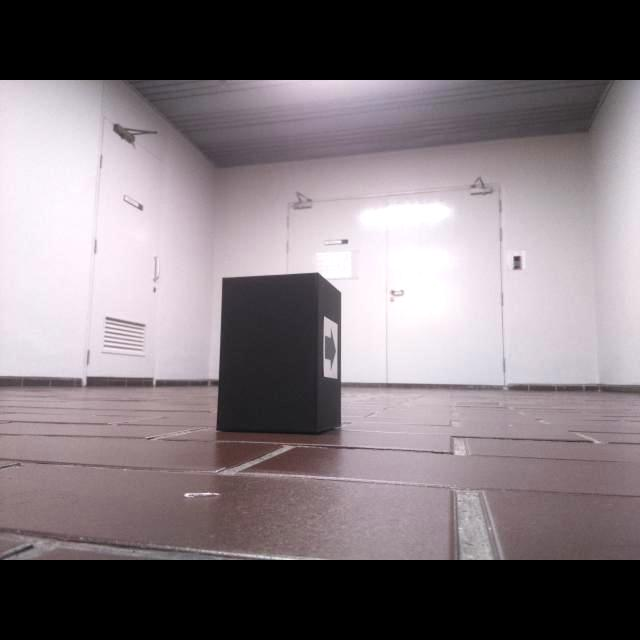RIGHT: (324, 330, 336, 370)
